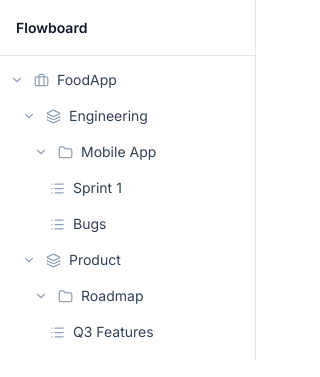
Scenario: Sidebar — reading the tree › collapses a branch and hides its descendants
This screenshot has width=320, height=377.
Click the button named "Collapse Engineering".
click(29, 116)  # box [20,107,38,125]
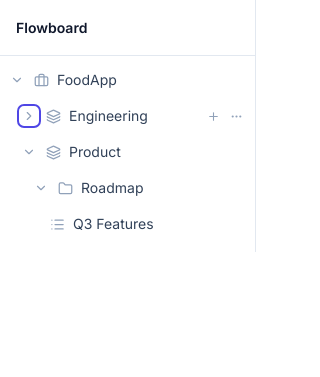
Expected: the button "Engineering" is shown, [40,100,197,132]
Expected: the button "Mobile App" is gone
Expected: the button "Sprint 1" is gone
